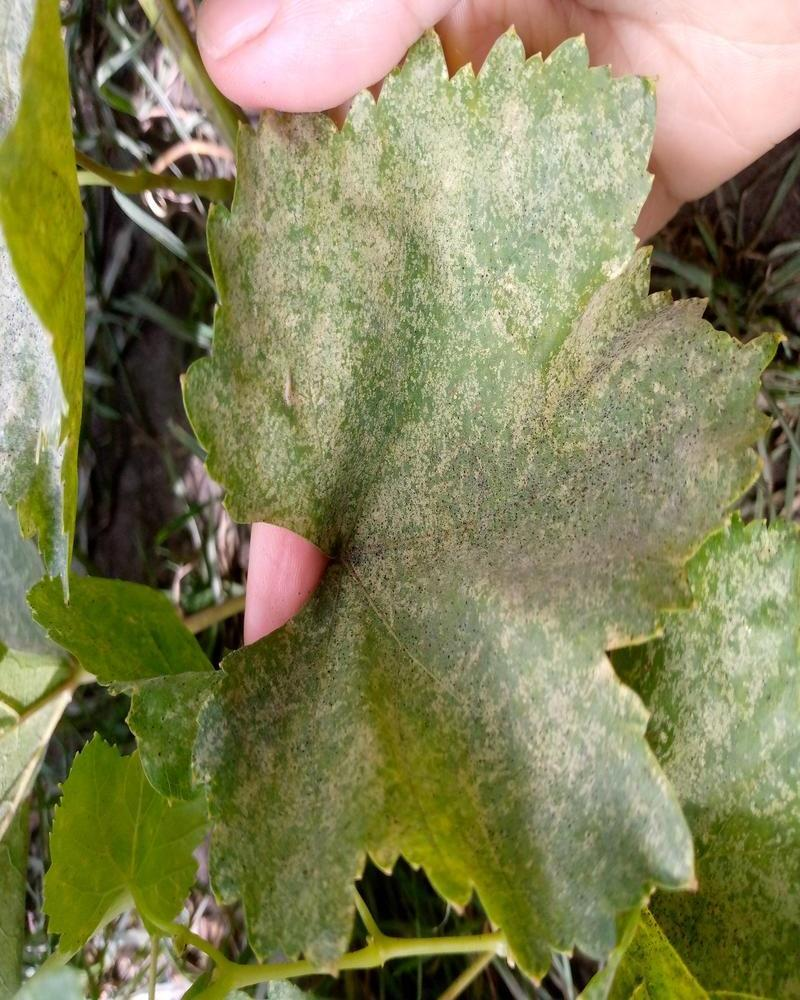Powdery-Mildew: (235, 64, 724, 574), (248, 613, 467, 913), (476, 603, 692, 894), (584, 413, 748, 636), (216, 293, 354, 523), (519, 307, 599, 360), (613, 402, 676, 465), (415, 583, 478, 646), (248, 709, 311, 772)
